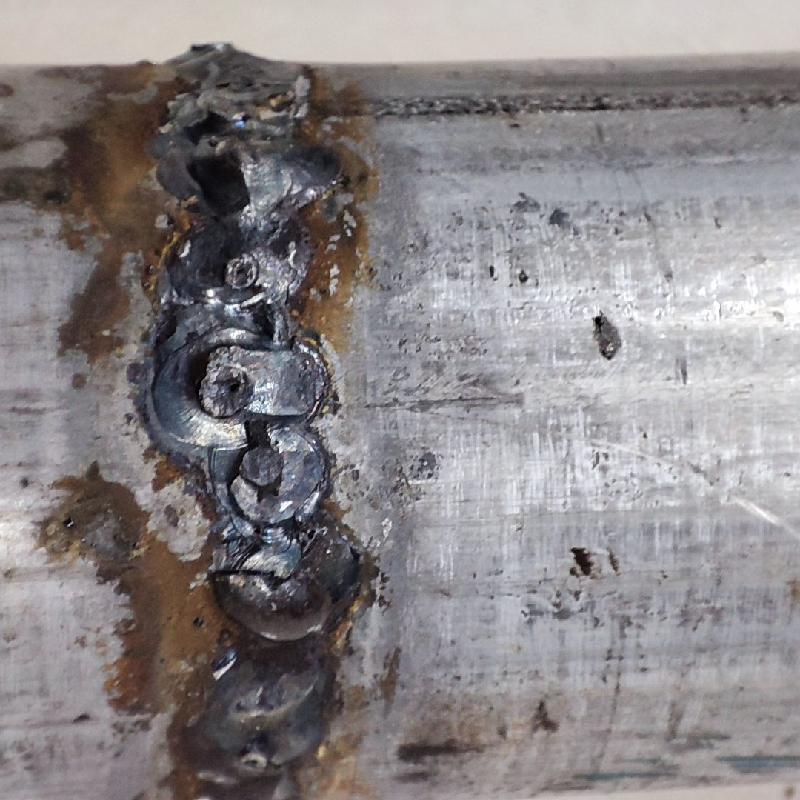Weld: (203, 559, 352, 652)
